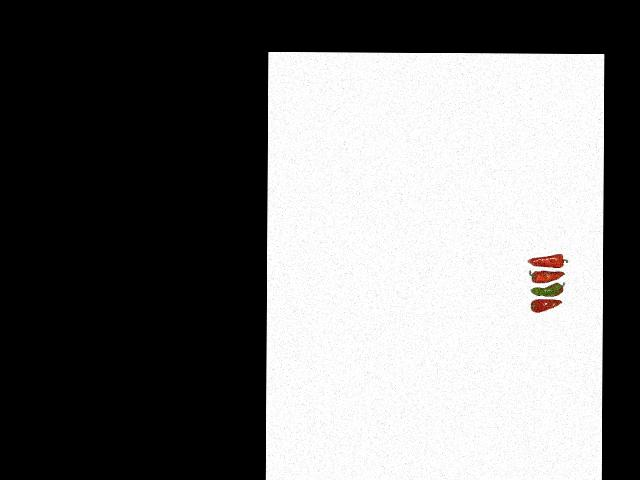bell_pepper: (529, 298, 565, 316)
